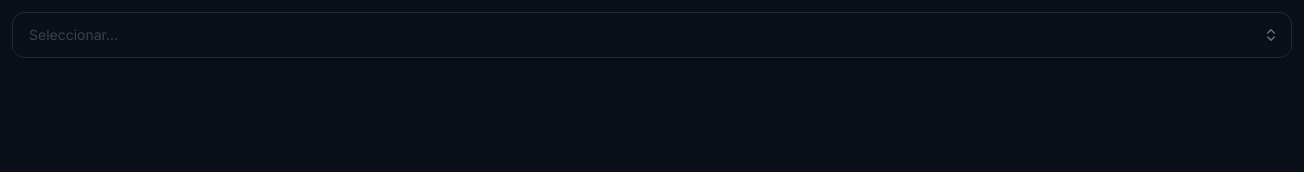
Test: SmartCombobox › filtra opciones al escribir
The image size is (1304, 172).
Type "lap" into the dropdown at (652, 35), box [13,13,1291,57]
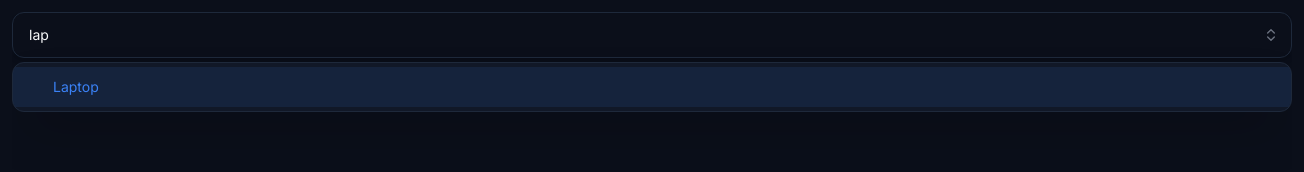
expect the text "Laptop" is shown: met, box [53,78,99,95]
